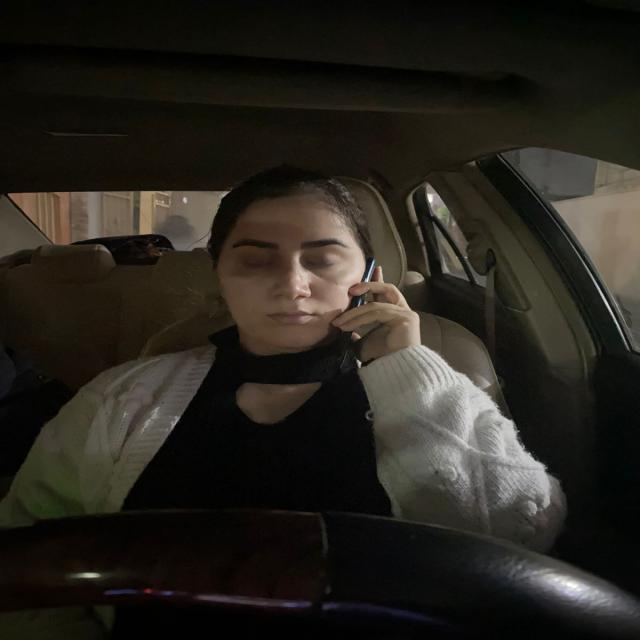mobile: (331, 252, 382, 364)
person: (199, 162, 411, 366)
